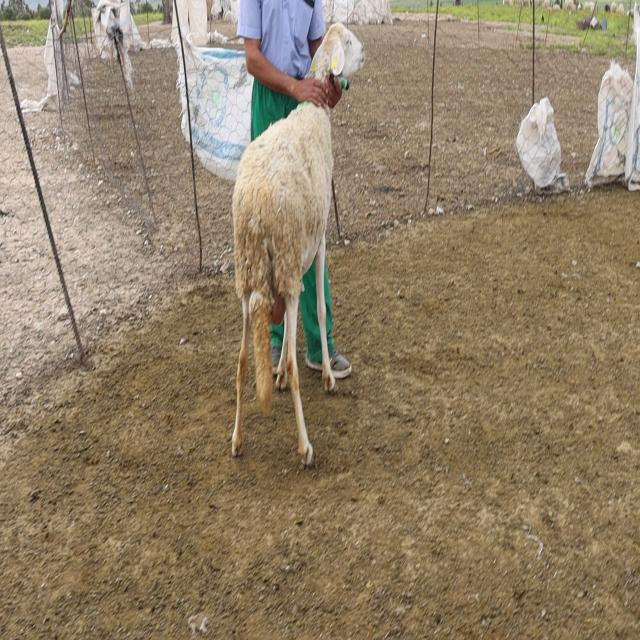Score_2: (231, 103, 335, 465)
